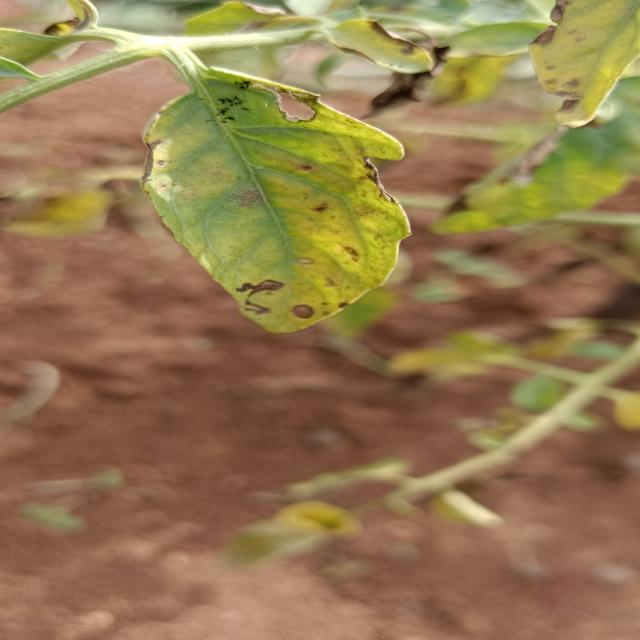tomato_early blight: (144, 65, 417, 335), (534, 0, 640, 124), (325, 18, 451, 70)
